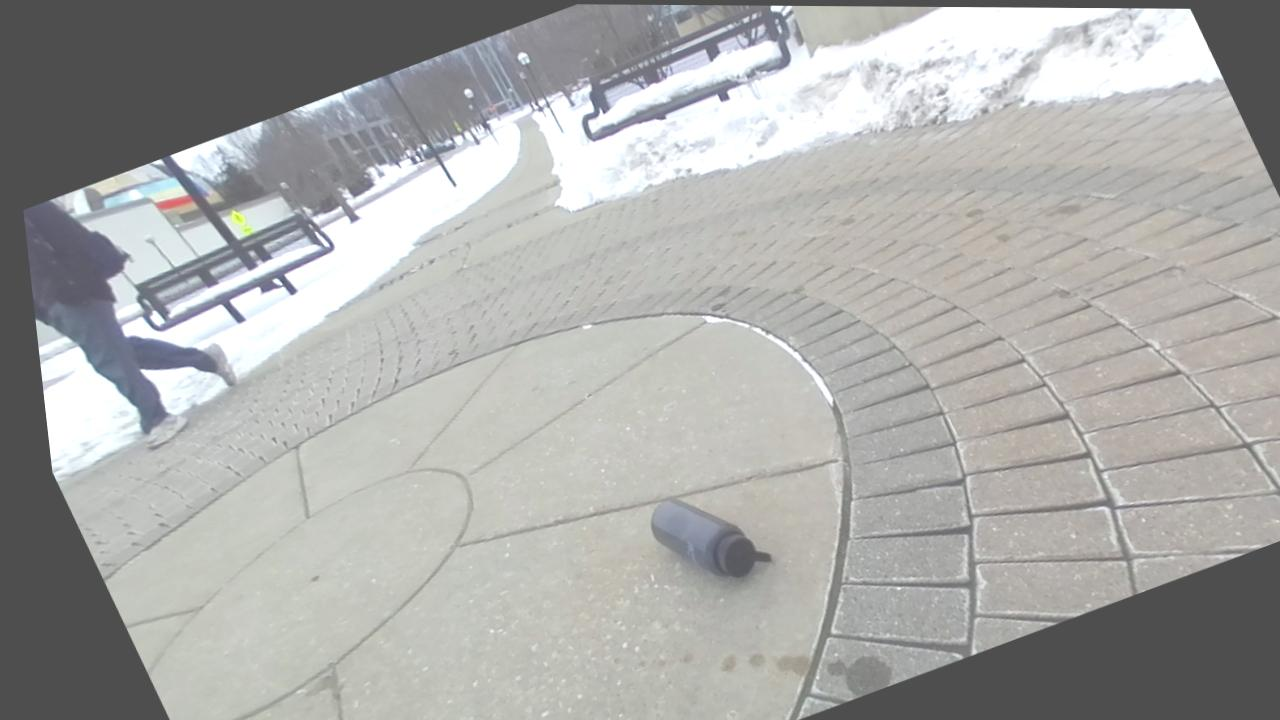bottle: (651, 499, 771, 577)
